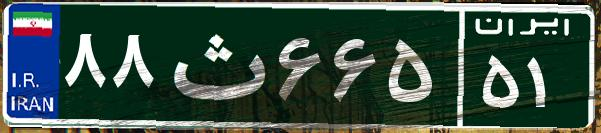1: (525, 38, 570, 115)
5: (385, 28, 445, 110), (475, 38, 525, 113)
6: (273, 28, 330, 110), (330, 28, 385, 110)
8: (57, 26, 110, 107), (110, 28, 158, 105)
ث: (158, 15, 273, 115)
